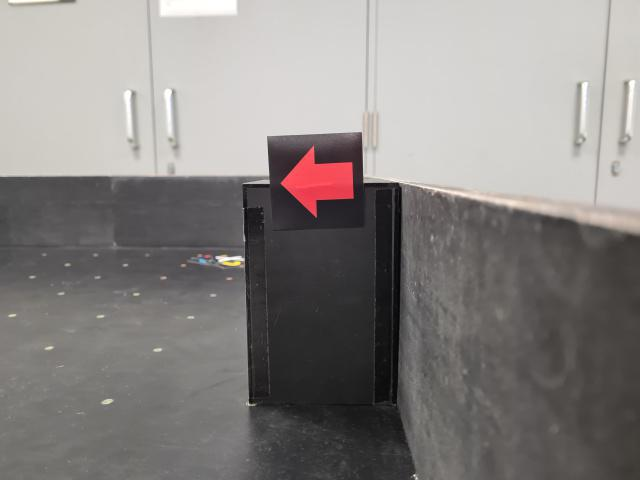left: (267, 133, 366, 230)
